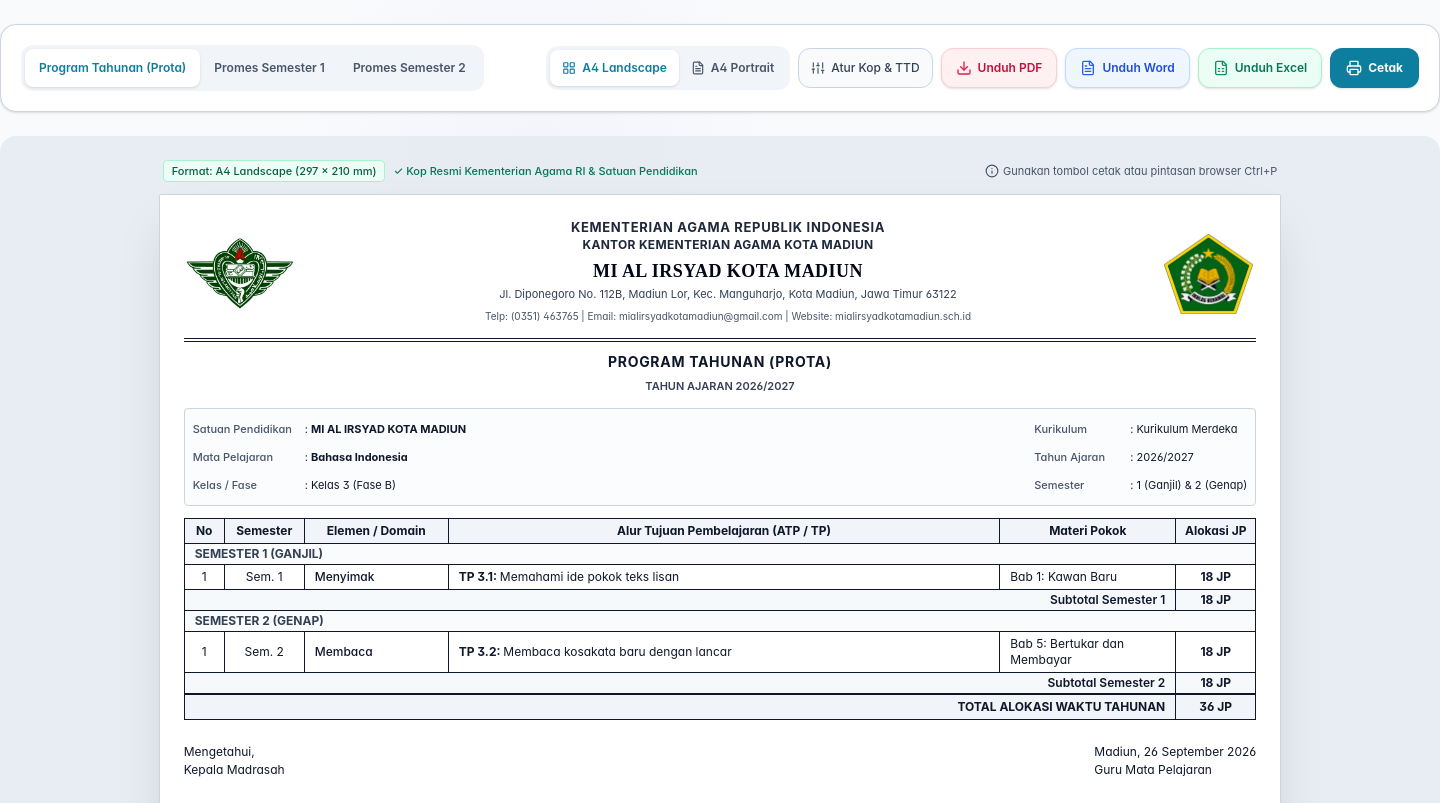
Test: PreviewTab Component - A4 Landscape & Kemenag Kop Configuration › renders complete 30-week monthly distribution grid when Promes tab is active
This screenshot has width=1440, height=803.
Click the button "Promes Semester 1" at (270, 68), box [200,49,339,87]
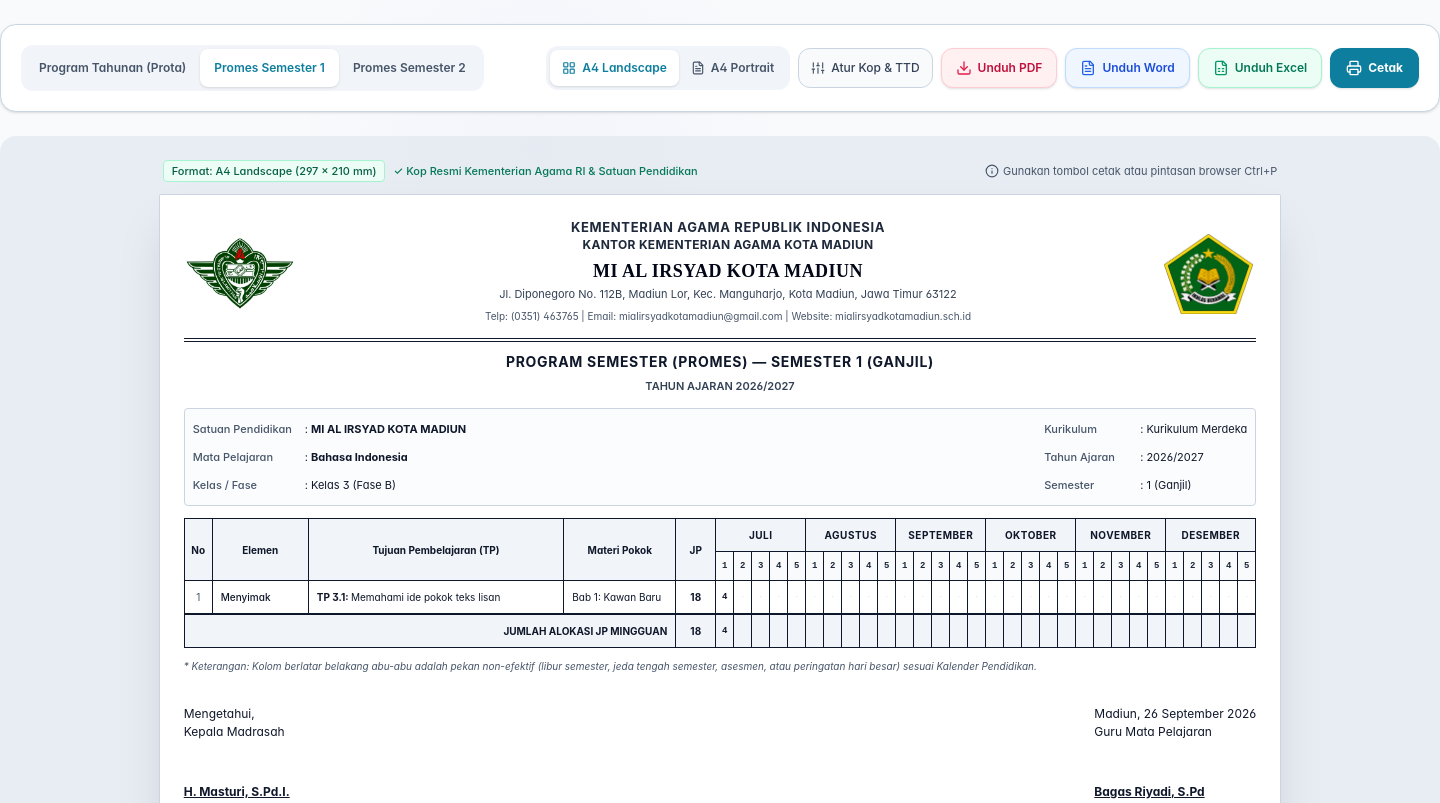
Expected: the heading "PROGRAM SEMESTER (PROMES) — SEMESTER 1 (GANJIL)" is shown, [506,353,934,370]
Expected: the column heading "Juli" is shown, [716,519,806,552]
Expected: the column heading "Agustus" is shown, [806,519,896,552]
